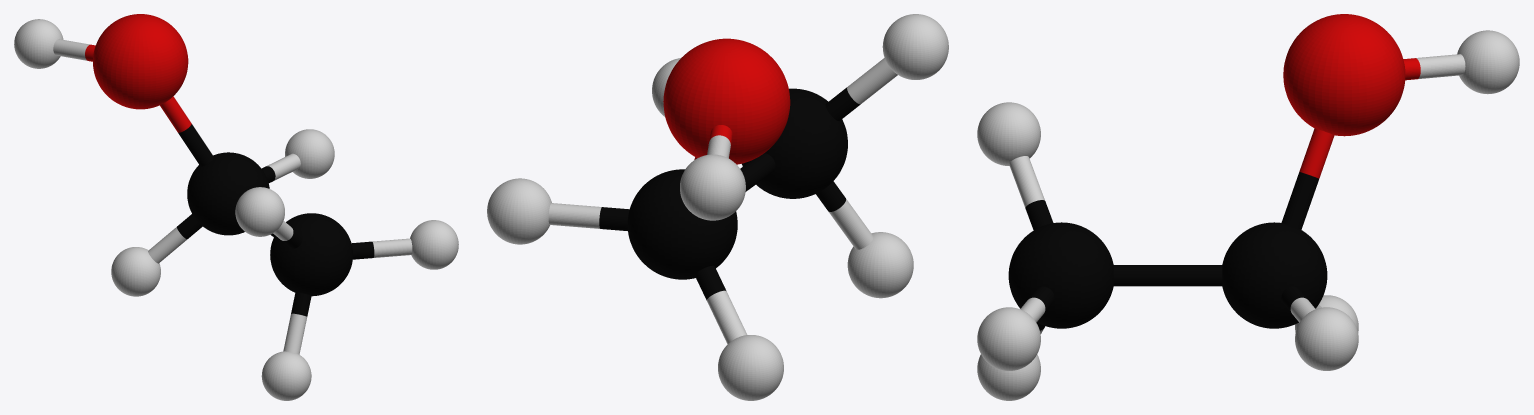
The model's file is Etanolpaulo.obj.
3 views of the same model, side by side, from view 1: azimuth 30°, elevation 25°; view 2: azimuth 150°, elevation 25°; view 3: azimuth 270°, elevation 25° (orthographic). The views are drawn at different scales.
Visible parts, largest first — view 1: Esfera_UV.013, Esfera_UV.006, Esfera_UV.011, Esfera_UV.003, Esfera_UV.002, Esfera_UV.004, Esfera_UV.008, Esfera_UV.014, Esfera_UV.007, Cilindro.001_Cilindro.004, Cilindro.002_Cilindro.000_Cilindro.002_Cilindro.001, Cilindro.004 (+4 smaller); view 2: Esfera_UV.013, Esfera_UV.011, Esfera_UV.006, Esfera_UV.014, Esfera_UV.003, Esfera_UV.008, Esfera_UV.007, Esfera_UV.002, Cilindro.005, Cilindro.001_Cilindro.001, Cilindro.001_Cilindro.007, Cilindro.002_Cilindro.000_Cilindro.002_Cilindro.001 (+3 smaller); view 3: Esfera_UV.013, Esfera_UV.006, Esfera_UV.011, Esfera_UV.007, Esfera_UV.004, Esfera_UV.003, Esfera_UV.014, Cilindro.003, Cilindro.001_Cilindro.004, Esfera_UV.002, Cilindro.001_Cilindro.007, Cilindro.002_Cilindro.008 (+3 smaller).
Boxes of the visible parts, x1,y1,x2,y2 form: Esfera_UV.013: (93,14,188,109); Esfera_UV.006: (270,213,352,296); Esfera_UV.011: (187,152,269,235); Esfera_UV.003: (235,187,284,236); Esfera_UV.002: (261,351,311,400); Esfera_UV.004: (410,220,458,269); Esfera_UV.008: (111,247,160,296); Esfera_UV.014: (14,19,63,68); Esfera_UV.007: (285,129,334,178); Cilindro.001_Cilindro.004: (160,96,213,166); Cilindro.002_Cilindro.000_Cilindro.002_Cilindro.001: (283,292,311,354); Cilindro.004: (351,238,412,259); Esfera_UV.013: (663,38,790,164); Esfera_UV.011: (627,169,737,279); Esfera_UV.006: (742,88,847,198); Esfera_UV.014: (680,154,745,220); Esfera_UV.003: (882,14,948,79); Esfera_UV.008: (718,335,783,400); Esfera_UV.007: (487,178,551,244); Esfera_UV.002: (847,232,913,298); Cilindro.005: (548,203,629,230); Cilindro.001_Cilindro.001: (695,265,747,344); Cilindro.001_Cilindro.007: (825,58,897,120); Cilindro.002_Cilindro.000_Cilindro.002_Cilindro.001: (816,181,873,249); Esfera_UV.013: (1283,14,1405,136); Esfera_UV.006: (1008,222,1113,328); Esfera_UV.011: (1222,222,1327,328); Esfera_UV.007: (1295,307,1358,370); Esfera_UV.004: (977,307,1040,370); Esfera_UV.003: (977,102,1040,165); Esfera_UV.014: (1457,30,1519,94); Cilindro.003: (1113,265,1222,286); Cilindro.001_Cilindro.004: (1281,128,1334,229); Esfera_UV.002: (977,354,1040,400); Cilindro.001_Cilindro.007: (1009,156,1053,229); Cilindro.002_Cilindro.008: (1403,54,1465,80).
Bounding box in the file's own units: 6.99 × 7.66 × 10.21.
